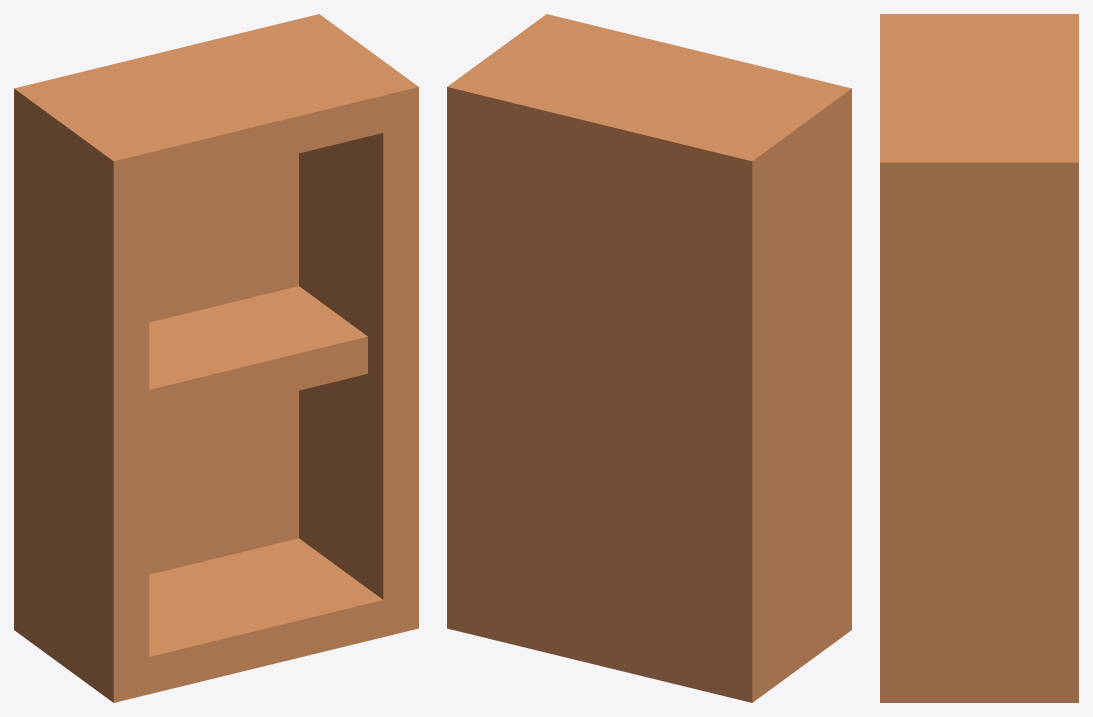
Rendered from bathroomCabinet.glb.
The picture shows the model from 3 angles, left to right: view 1: azimuth 30°, elevation 25°; view 2: azimuth 150°, elevation 25°; view 3: azimuth 270°, elevation 25°; orthographic projection.
Visible parts, largest first — view 1: bathroomCabinet; view 2: bathroomCabinet; view 3: bathroomCabinet.
Part boxes in pixels (left/top/right/bottom): bathroomCabinet: left=14, top=14, right=418, bottom=702; bathroomCabinet: left=447, top=14, right=851, bottom=702; bathroomCabinet: left=880, top=14, right=1078, bottom=702.
Size of the model in its own units: 0.5278 by 0.895 by 0.2983.
